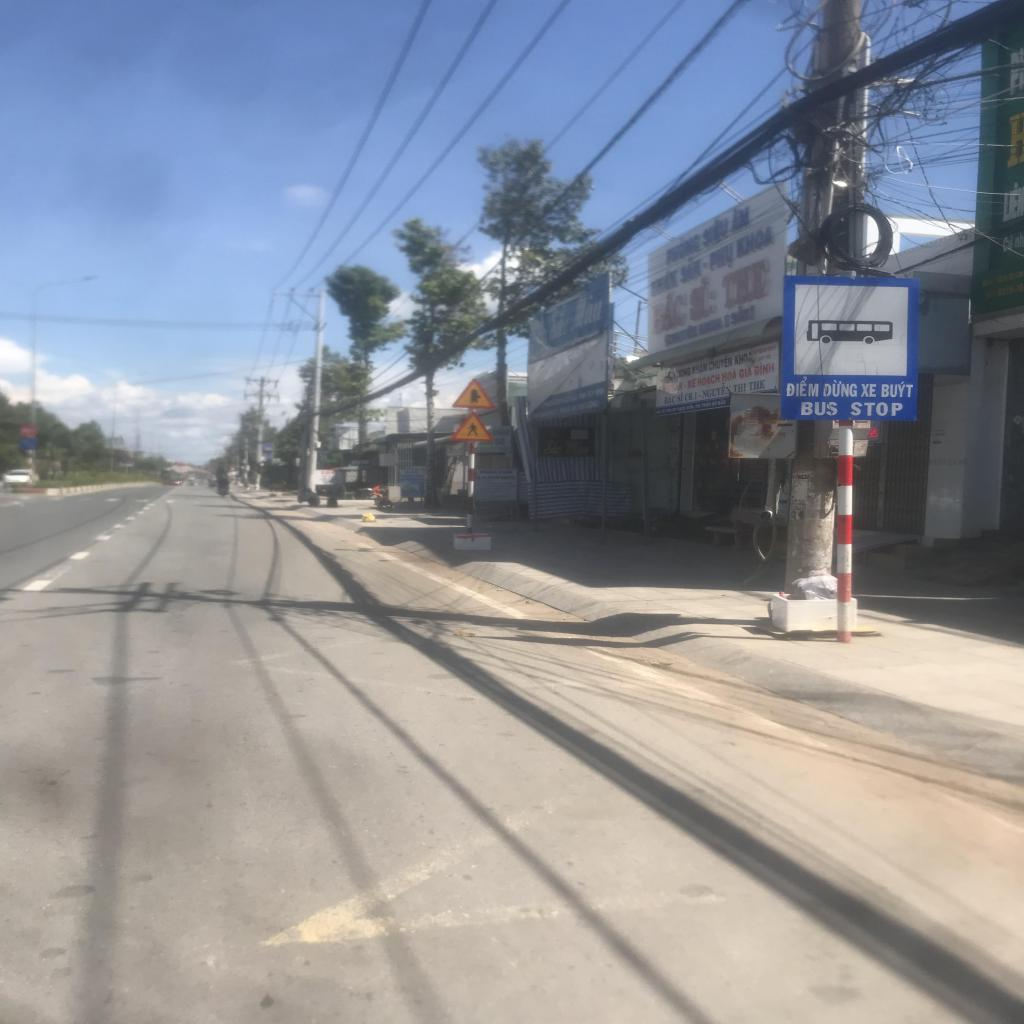cam_xe_di_nguoc_chieu: (18, 421, 36, 436)
chu_y_nguoi_di_bo_cat_ngang: (449, 411, 496, 442)
giao_nhau_voi_duong_khong_uu_tien: (450, 378, 496, 409)
huong_phai_di_vuot_chuong_ngai_vat_phai: (18, 437, 35, 451)
khac: (779, 276, 920, 421)
